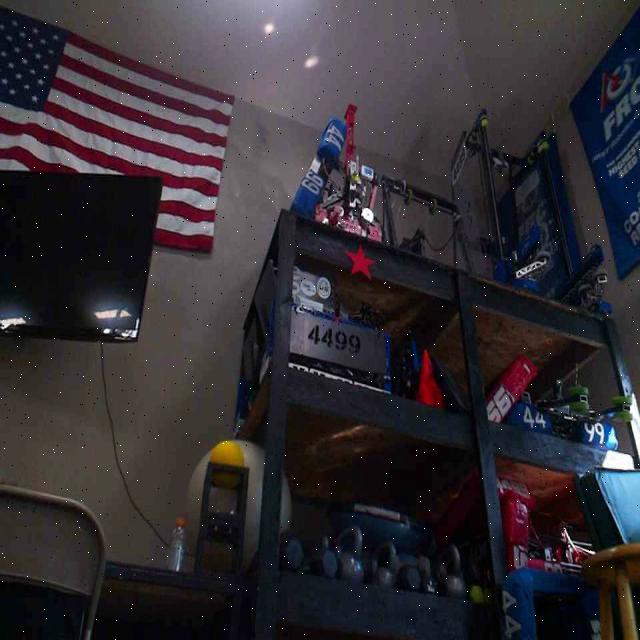star_red: (343, 246, 374, 276)
